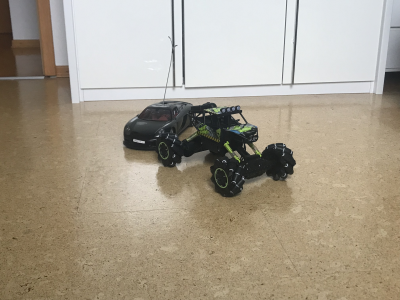remote control car: (156, 98, 298, 199)
